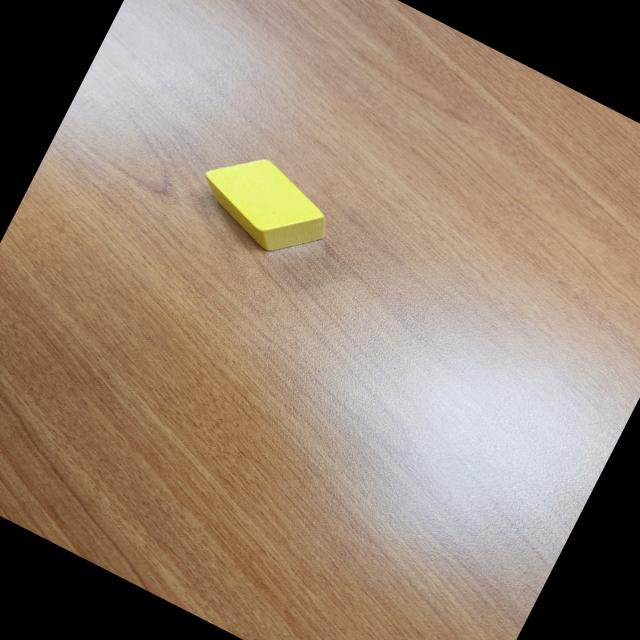yellow: (186, 136, 346, 274)
